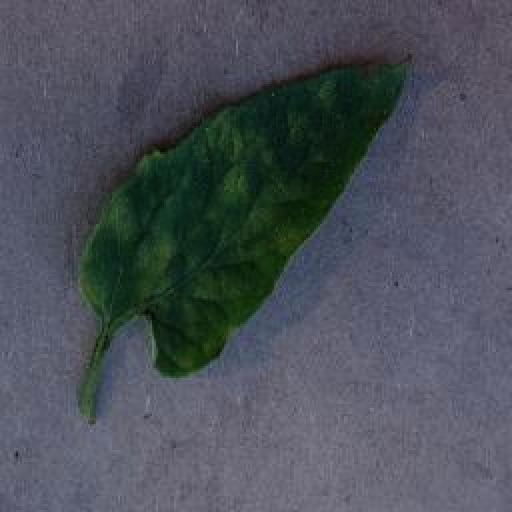disease_tomato: (82, 53, 411, 375)
